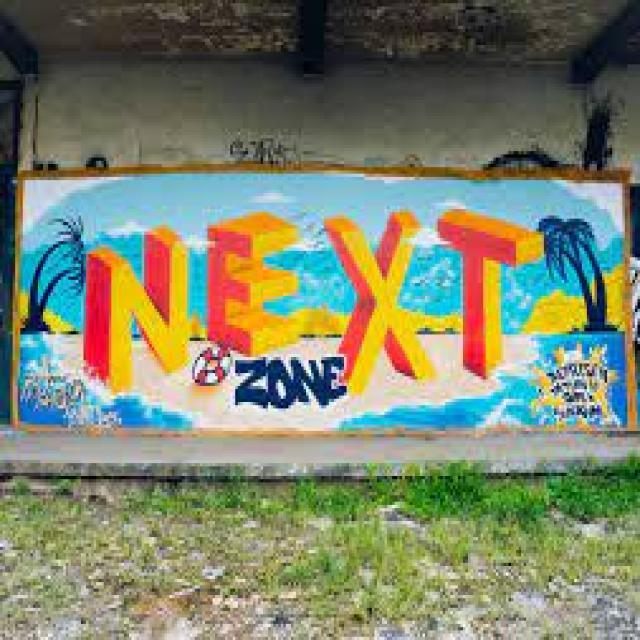-: (23, 178, 632, 430)
